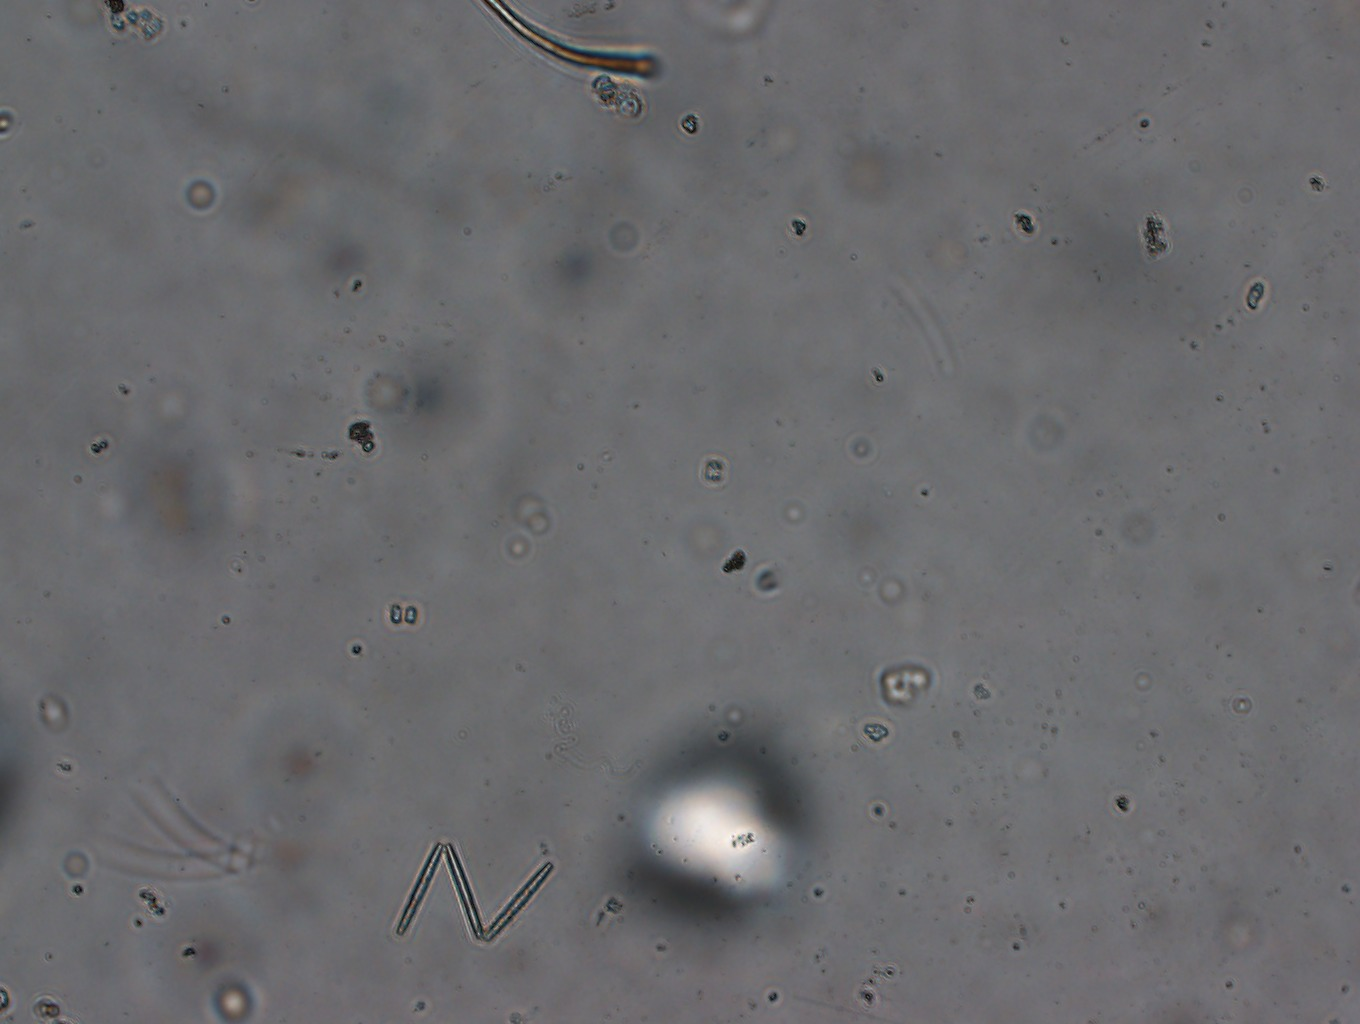thalassionema nitzschioides: (390, 838, 571, 948)
